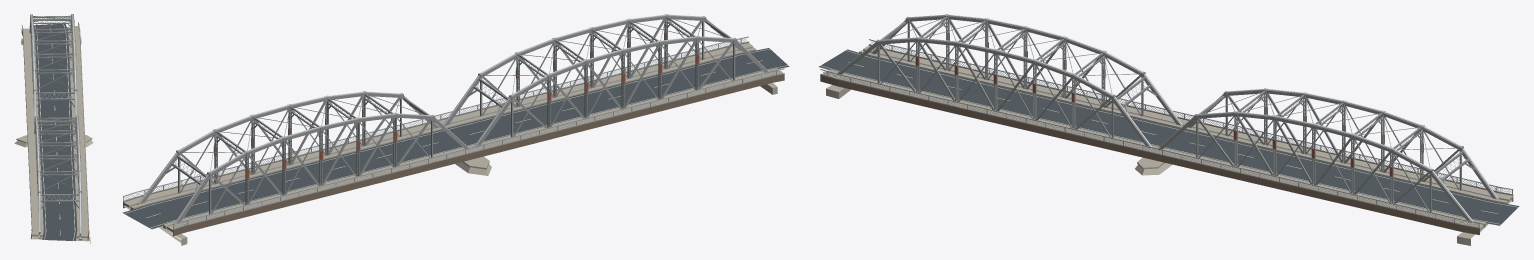
File: reconciliation-bridge-near.glb
The picture shows the model from 3 angles, left to right: view 1: azimuth 30°, elevation 25°; view 2: azimuth 150°, elevation 25°; view 3: azimuth 270°, elevation 25°; orthographic projection. The views are drawn at different scales.
Parts seen in each view (by area): view 1: reconciliation-bridge-0-asphalt, reconciliation-bridge-0-steel, reconciliation-bridge-0-concrete, reconciliation-bridge-0-light, reconciliation-bridge-0-rail, reconciliation-bridge-0-paint, reconciliation-bridge-0-deck; view 2: reconciliation-bridge-0-steel, reconciliation-bridge-0-asphalt, reconciliation-bridge-0-concrete, reconciliation-bridge-0-rail, reconciliation-bridge-0-deck, reconciliation-bridge-0-light, reconciliation-bridge-0-paint, reconciliation-bridge-0-banner; view 3: reconciliation-bridge-0-steel, reconciliation-bridge-0-asphalt, reconciliation-bridge-0-concrete, reconciliation-bridge-0-rail, reconciliation-bridge-0-deck, reconciliation-bridge-0-light, reconciliation-bridge-0-paint, reconciliation-bridge-0-banner.
Boxes of the visible parts, bbox=[...] form: reconciliation-bridge-0-asphalt: bbox=[33, 24, 77, 241]; reconciliation-bridge-0-steel: bbox=[29, 14, 82, 240]; reconciliation-bridge-0-concrete: bbox=[14, 26, 93, 243]; reconciliation-bridge-0-light: bbox=[31, 14, 81, 233]; reconciliation-bridge-0-rail: bbox=[21, 22, 89, 235]; reconciliation-bridge-0-paint: bbox=[34, 24, 75, 240]; reconciliation-bridge-0-deck: bbox=[21, 26, 89, 240]; reconciliation-bridge-0-steel: bbox=[137, 14, 769, 223]; reconciliation-bridge-0-asphalt: bbox=[122, 48, 789, 229]; reconciliation-bridge-0-concrete: bbox=[123, 43, 782, 245]; reconciliation-bridge-0-rail: bbox=[123, 36, 784, 230]; reconciliation-bridge-0-deck: bbox=[123, 42, 784, 236]; reconciliation-bridge-0-light: bbox=[139, 14, 768, 223]; reconciliation-bridge-0-paint: bbox=[124, 49, 787, 228]; reconciliation-bridge-0-banner: bbox=[214, 32, 699, 178]; reconciliation-bridge-0-steel: bbox=[837, 14, 1499, 222]; reconciliation-bridge-0-asphalt: bbox=[819, 49, 1519, 225]; reconciliation-bridge-0-concrete: bbox=[822, 45, 1512, 245]; reconciliation-bridge-0-rail: bbox=[820, 39, 1513, 228]; reconciliation-bridge-0-deck: bbox=[820, 45, 1513, 234]; reconciliation-bridge-0-light: bbox=[837, 14, 1497, 222]; reconciliation-bridge-0-paint: bbox=[820, 50, 1517, 224]; reconciliation-bridge-0-banner: bbox=[915, 33, 1423, 176].
Bounding box in the file's own units: 70.4 × 14.11 × 113.
